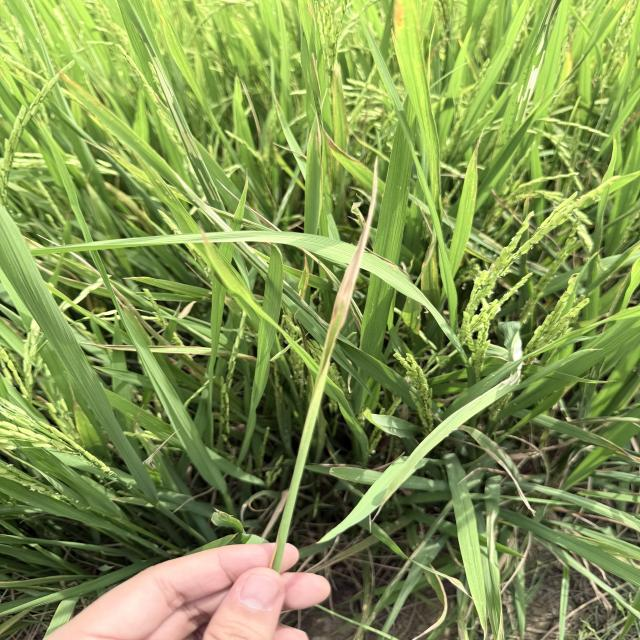Chay bia la: (317, 155, 379, 381)
